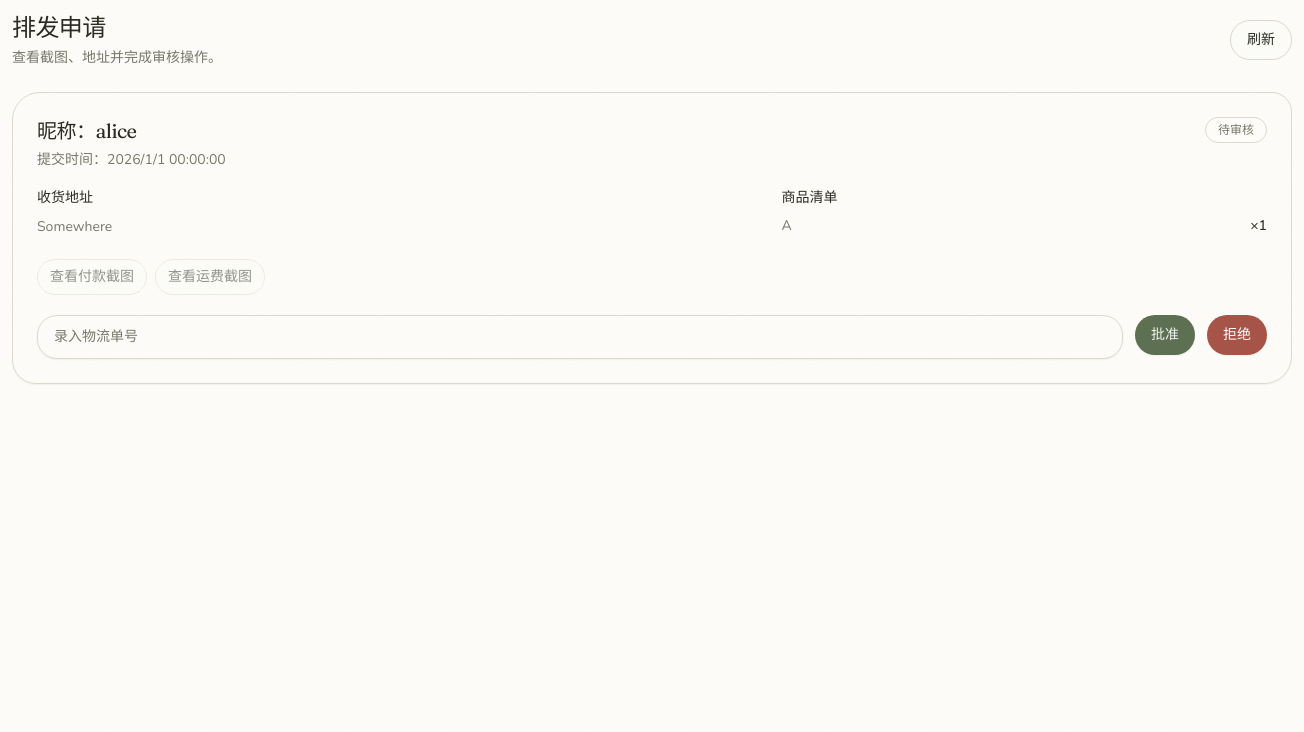
Scenario: RequestList rejects pending requests
This screenshot has width=1304, height=732.
Expected: the heading "昵称：alice" is shown, x1=37 y1=118 x2=136 y2=143
Click the button "拒绝". click: (1237, 334)
box: x1=1207 y1=314 x2=1267 y2=354
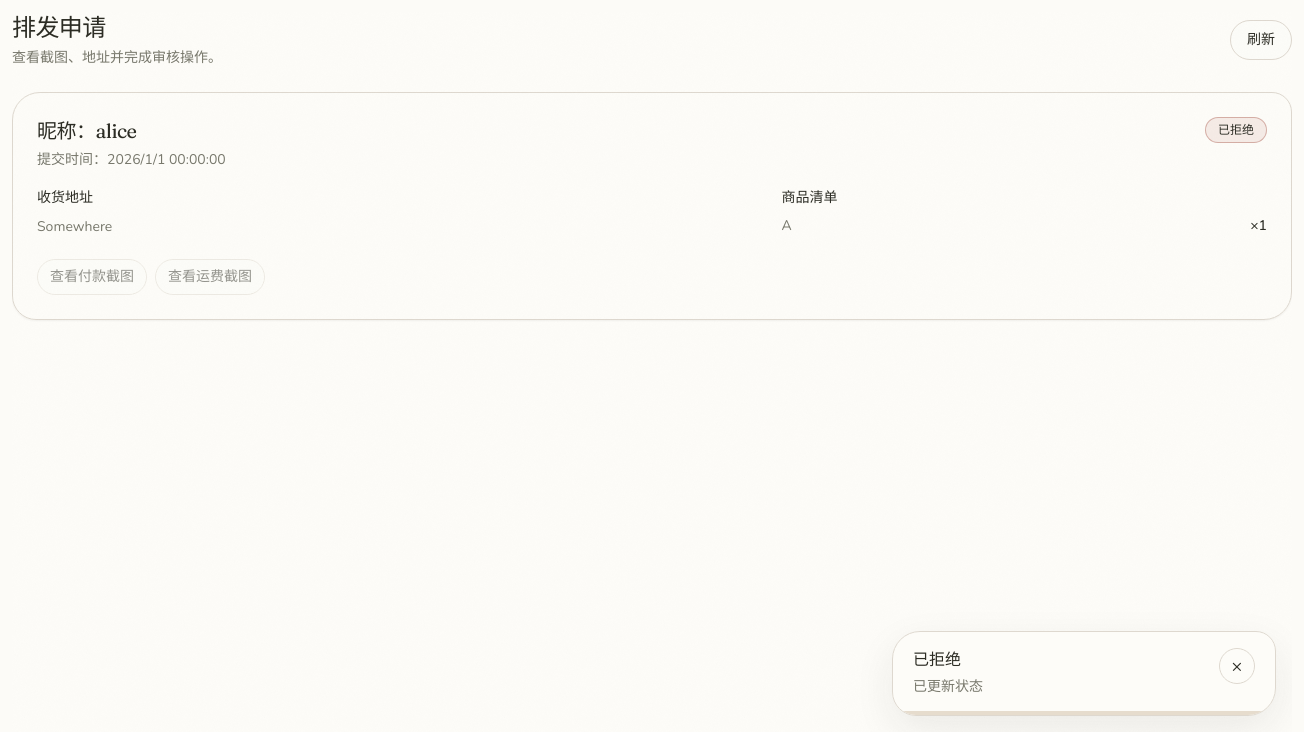
Result: the text "已拒绝" in the row of "alice" is shown at x1=1218 y1=122 x2=1254 y2=138
